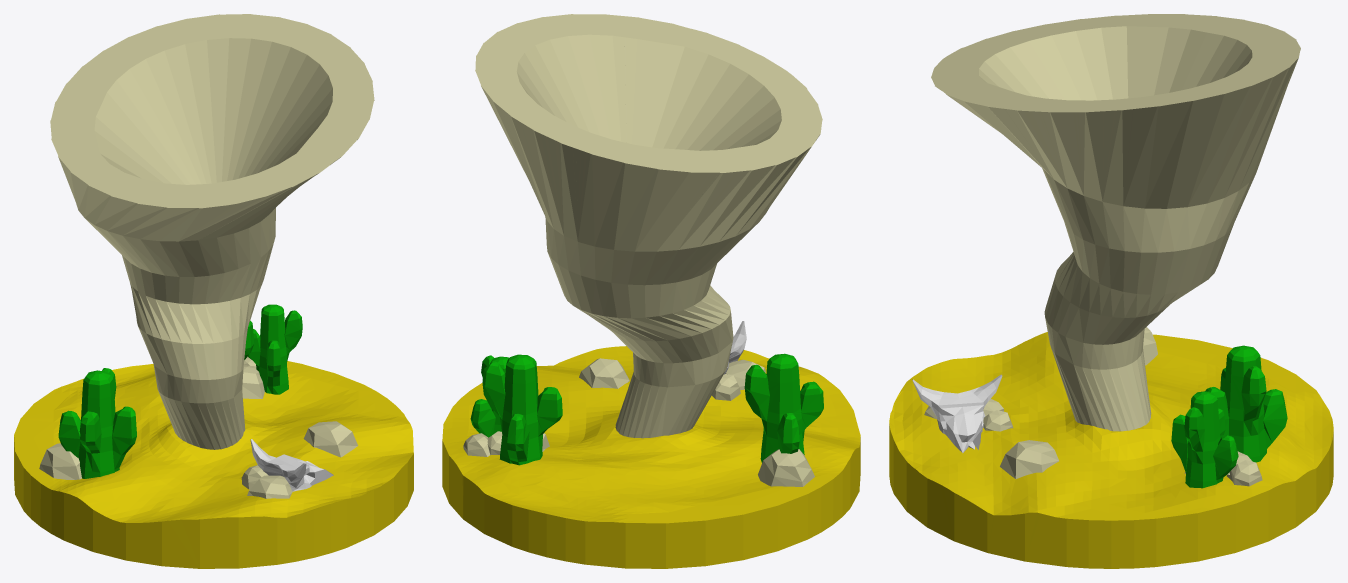
Rendered from sandstorm.glb.
The picture shows the model from 3 angles, left to right: view 1: azimuth 30°, elevation 25°; view 2: azimuth 150°, elevation 25°; view 3: azimuth 270°, elevation 25°; orthographic projection. The views are drawn at different scales.
Visible parts, largest first — view 1: sandstorm; view 2: sandstorm; view 3: sandstorm.
Boxes of the visible parts, box(x1,y1,x2,y2) form: sandstorm: box(14, 14, 413, 568); sandstorm: box(442, 14, 860, 568); sandstorm: box(889, 14, 1333, 568).
Bounding box in the file's own units: 25 × 27.62 × 25.01.
